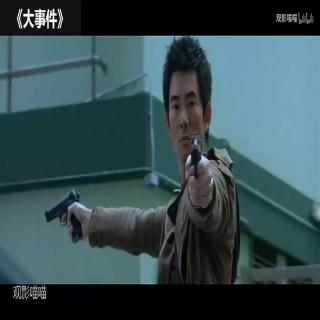gun: (32, 184, 90, 245)
